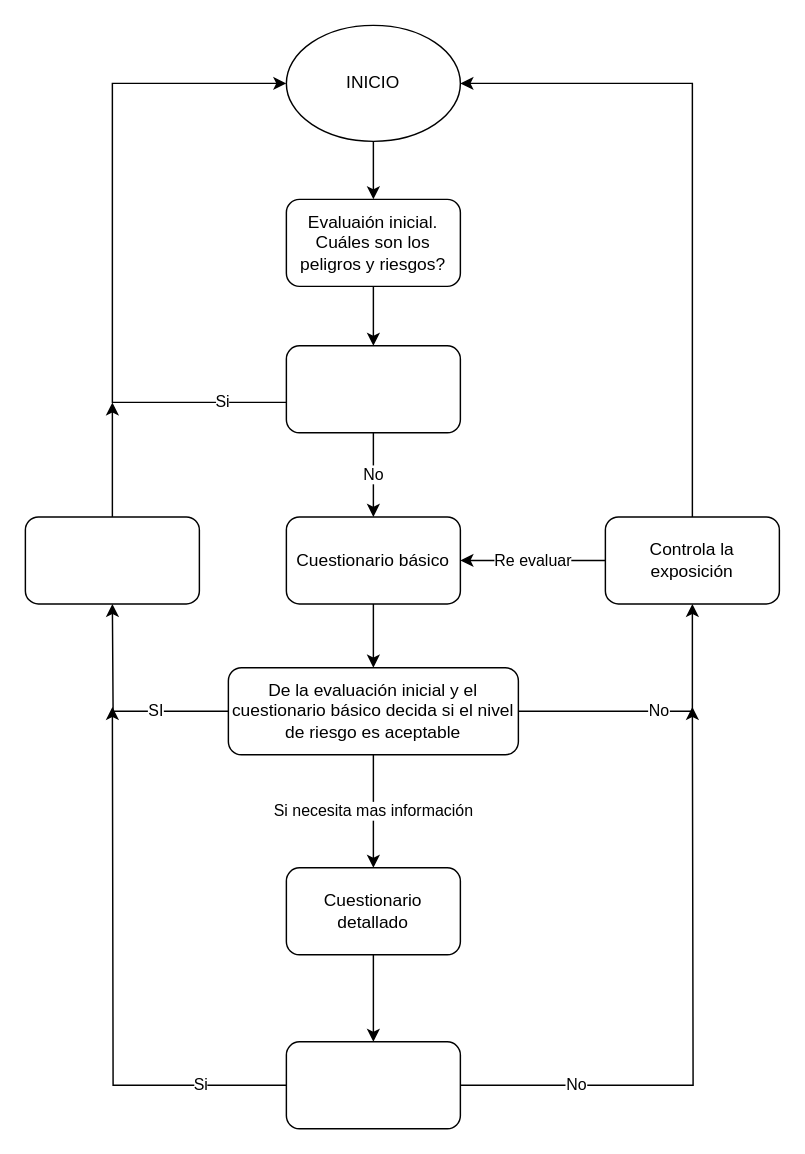
Some shapes in this 805 by 1154 pixel diagram are drawn without their labels. Each missing label, with the centre of its shape:
"Crees que los peligros estan controlados?" goes at pixel 372 388.
"De los resultados del monitoreo decida si el nivel de riesgo is aceptable" goes at pixel 372 1084.
"Monitoreo de rutina" goes at pixel 111 559.
